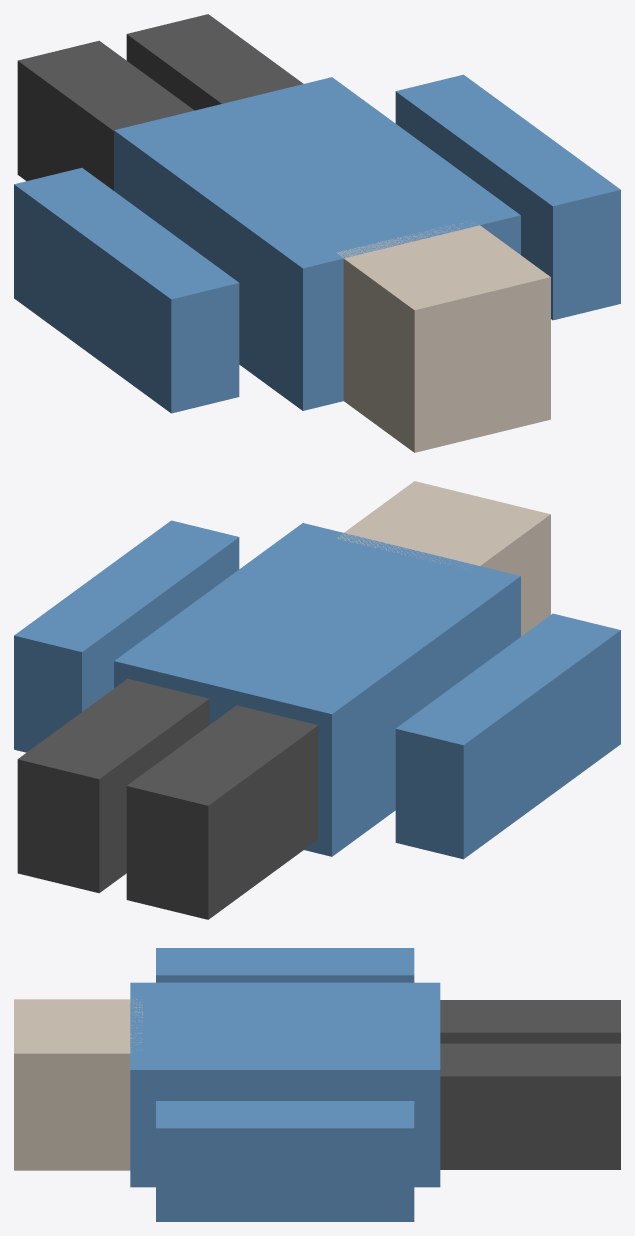
The model's file is Character.glb.
The picture shows the model from 3 angles, top to bottom: view 1: azimuth 30°, elevation 25°; view 2: azimuth 150°, elevation 25°; view 3: azimuth 270°, elevation 25°; orthographic projection. The views are drawn at different scales.
Visible parts, largest first — view 1: world; view 2: world; view 3: world.
Boxes of the visible parts, <box> form: world: <box>14,14,620,452</box>; world: <box>14,481,620,919</box>; world: <box>14,948,620,1221</box>.
Size of the model in its own units: 1.65 by 0.5 by 2.35.
